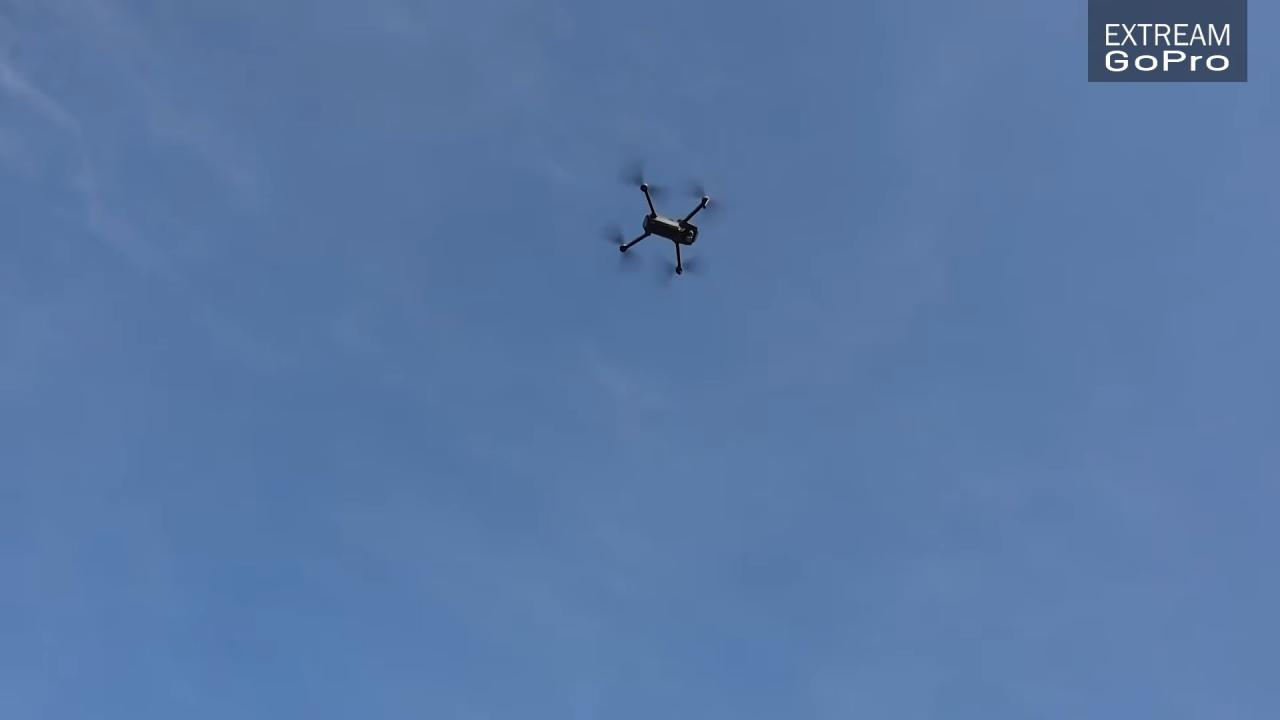Drone: (601, 150, 732, 286)
